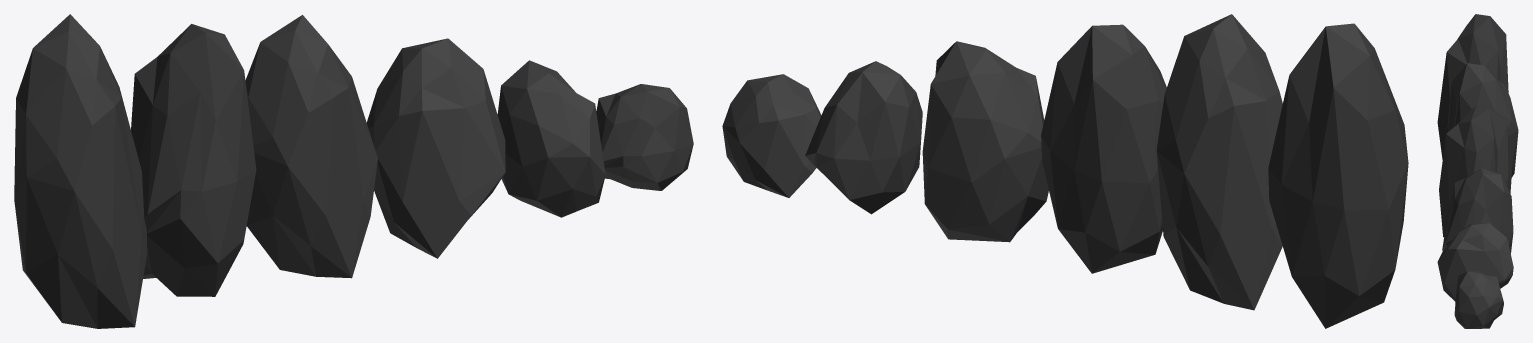
The model's file is Kayaskill.fbx.
The picture shows the model from 3 angles, left to right: view 1: azimuth 30°, elevation 25°; view 2: azimuth 150°, elevation 25°; view 3: azimuth 270°, elevation 25°; orthographic projection. The views are drawn at different scales.
Parts seen in each view (by area): view 1: kaya6, kaya5, kaya4, kaya3, kaya2, Rock1; view 2: kaya6, kaya5, kaya4, kaya3, kaya2, Rock1; view 3: kaya4, kaya6, kaya3, kaya2, kaya5, Rock1.
Part boxes in pixels (box(x1,y1,x2,y2)): kaya6: box(14, 14, 147, 328); kaya5: box(131, 24, 256, 296); kaya4: box(245, 15, 377, 278); kaya3: box(366, 38, 505, 258); kaya2: box(497, 60, 605, 217); Rock1: box(596, 84, 693, 190); kaya6: box(1268, 23, 1408, 328); kaya5: box(1156, 14, 1282, 310); kaya4: box(1041, 24, 1166, 273); kaya3: box(922, 41, 1048, 242); kaya2: box(805, 61, 922, 214); Rock1: box(722, 74, 821, 197); kaya4: box(1439, 105, 1511, 237); kaya6: box(1437, 14, 1508, 159); kaya3: box(1442, 168, 1513, 253); kaya2: box(1437, 223, 1513, 301); kaya5: box(1447, 63, 1518, 177); Rock1: box(1454, 270, 1503, 328).
Size of the model in its own units: 229 by 99.34 by 44.36.
